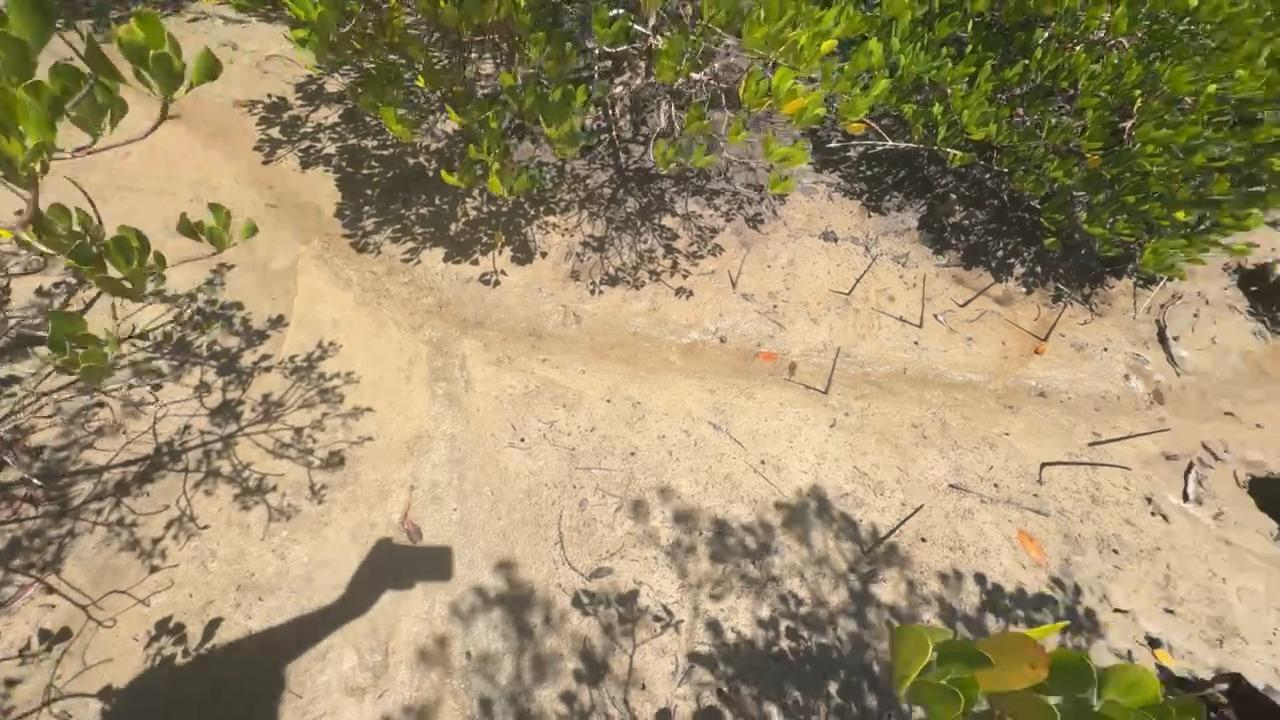Tree: (864, 502, 926, 556), (1088, 428, 1172, 447), (1135, 276, 1168, 318), (847, 255, 878, 295), (1042, 304, 1068, 342), (960, 282, 997, 308), (1040, 461, 1133, 471), (824, 347, 841, 395), (734, 251, 749, 289), (919, 272, 927, 329), (289, 691, 303, 699)
